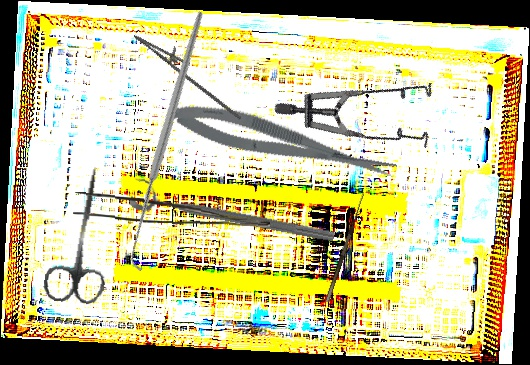Fixation Ring: (128, 175, 339, 248)
Hook Surgical: (36, 8, 303, 274), (319, 189, 367, 303)
Iris Scissors: (41, 162, 123, 308)
Micro Scissor: (163, 91, 400, 195)
Needle Holder: (124, 25, 256, 121)
Speculum: (271, 16, 458, 195)
Tissue Forceps: (73, 192, 271, 227)
